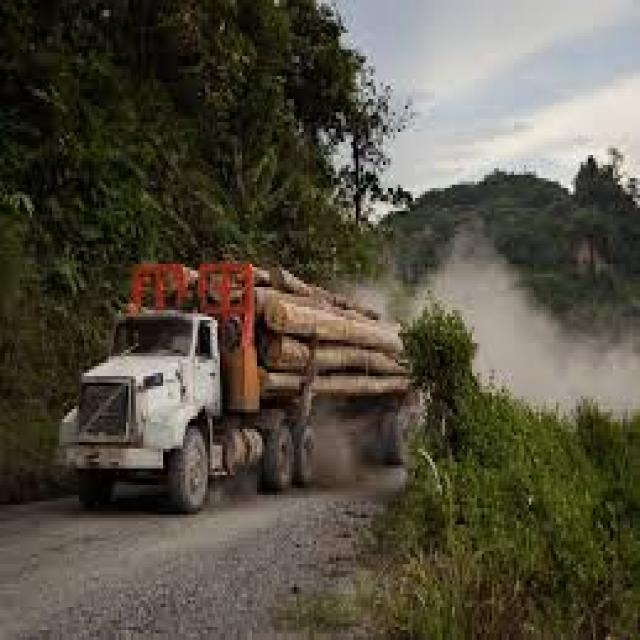Truck: (54, 252, 410, 512)
